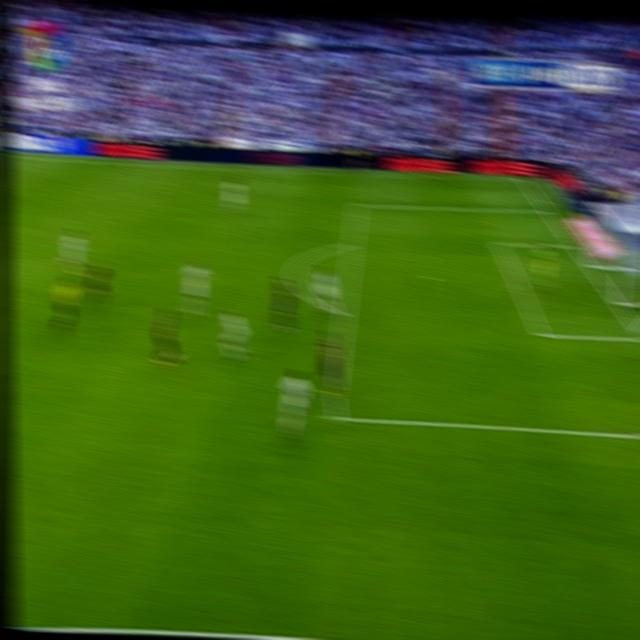bigarea_bottom_inner: (324, 402, 345, 427)
bigarea_top_inner: (494, 236, 507, 250)
smallarea_bottom_outter: (635, 326, 640, 346)
smallarea_top_outter: (567, 238, 579, 249)
